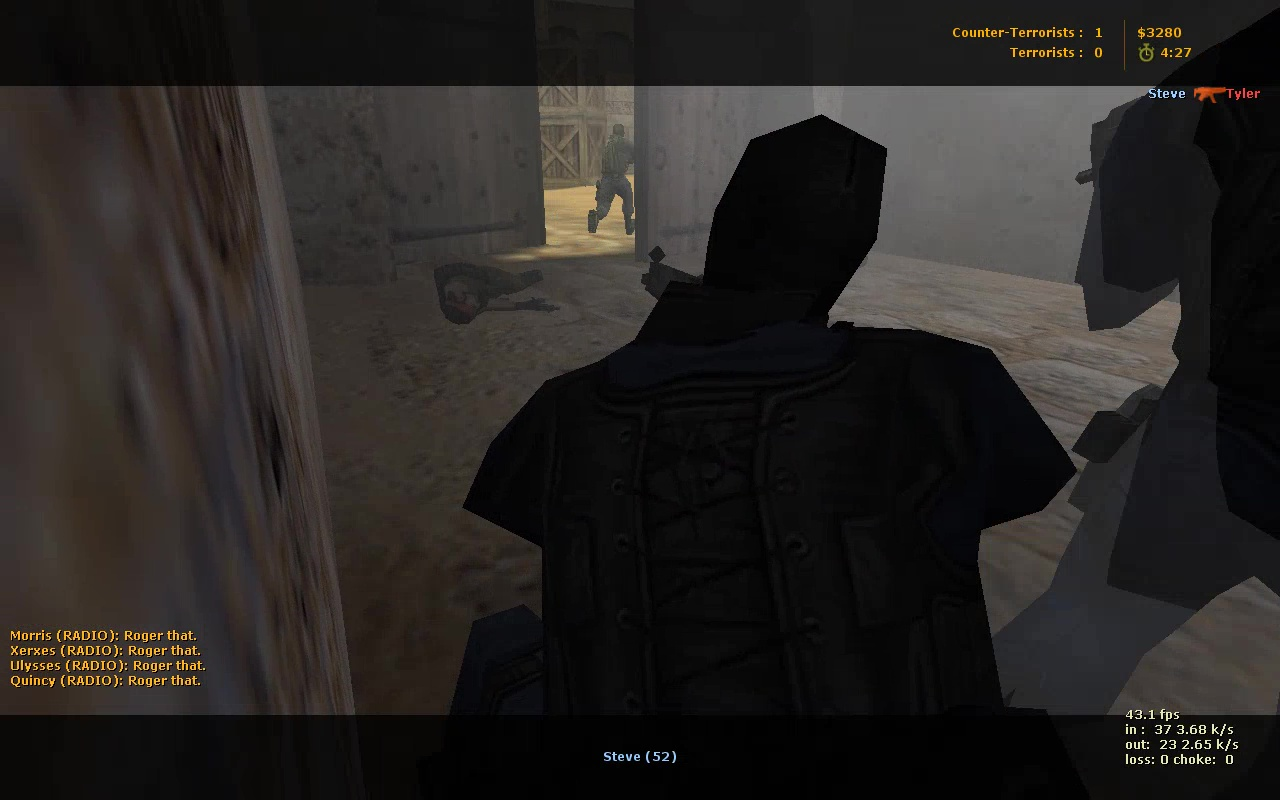ct: (589, 119, 639, 242)
dead: (431, 258, 563, 322)
